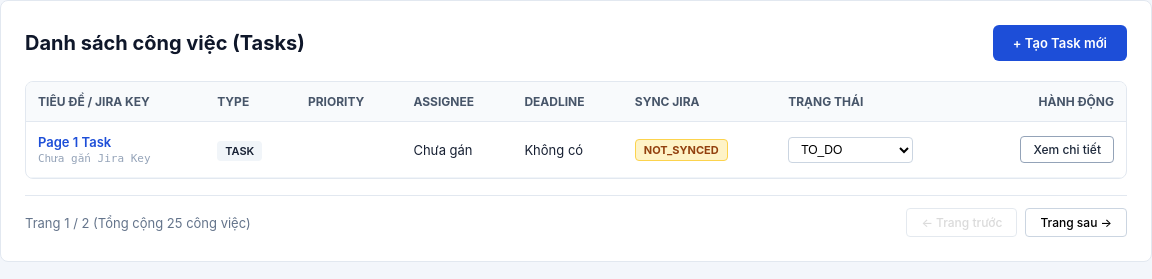
Test: TaskComponent Full Scope Tests (CNPM-65 & CNPM-84) › 7. Phân trang: Điều hướng trang tiếp theo gọi API với params page: 1
The width and height of the screenshot is (1152, 279).
Expected: the button "Page 1 Task" is shown, [38, 134, 111, 150]
Step 1. Click the button with test id "next-page-btn" → (1076, 222), box [1025, 208, 1127, 237]
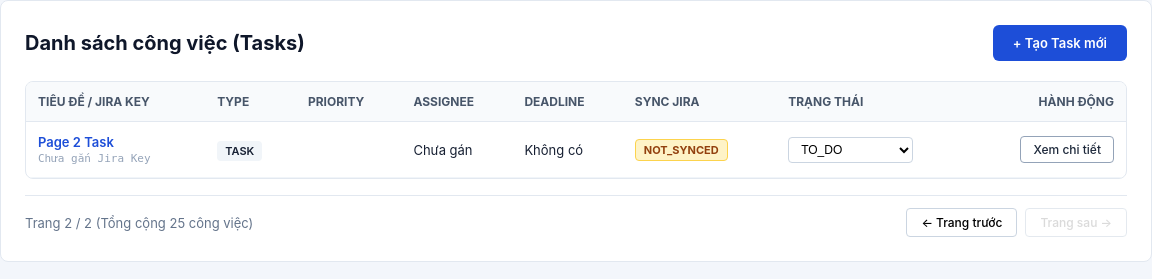
Result: the button "Page 2 Task" is shown at [38, 134, 114, 150]
